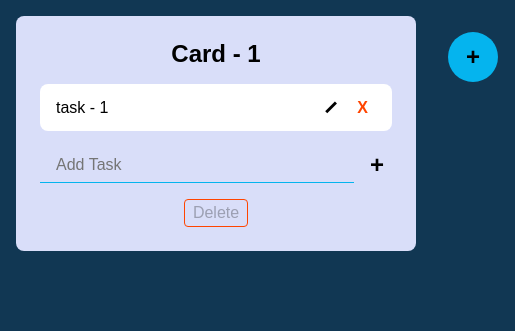
adds a task to a column
The width and height of the screenshot is (515, 331).
Type "foo" into the field with placeholder "Add Task" at (197, 165), box [40,148,354,182]
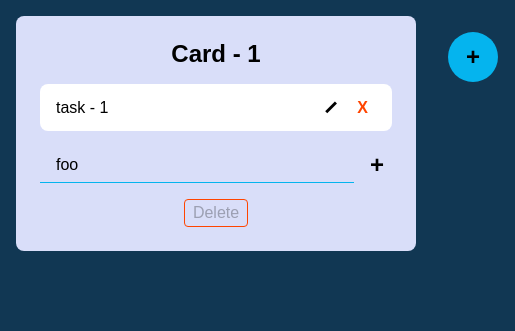
Click the button named "Add Task" at (377, 165), box [362,147,392,183]
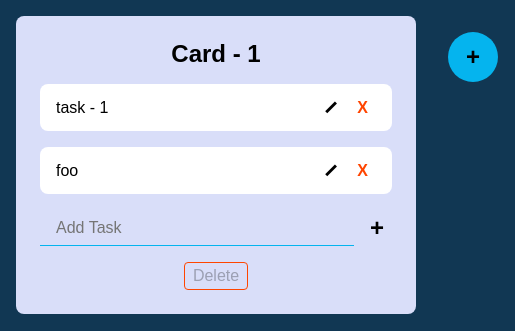
Expected: the text "foo" is shown, [56,162,78,178]
